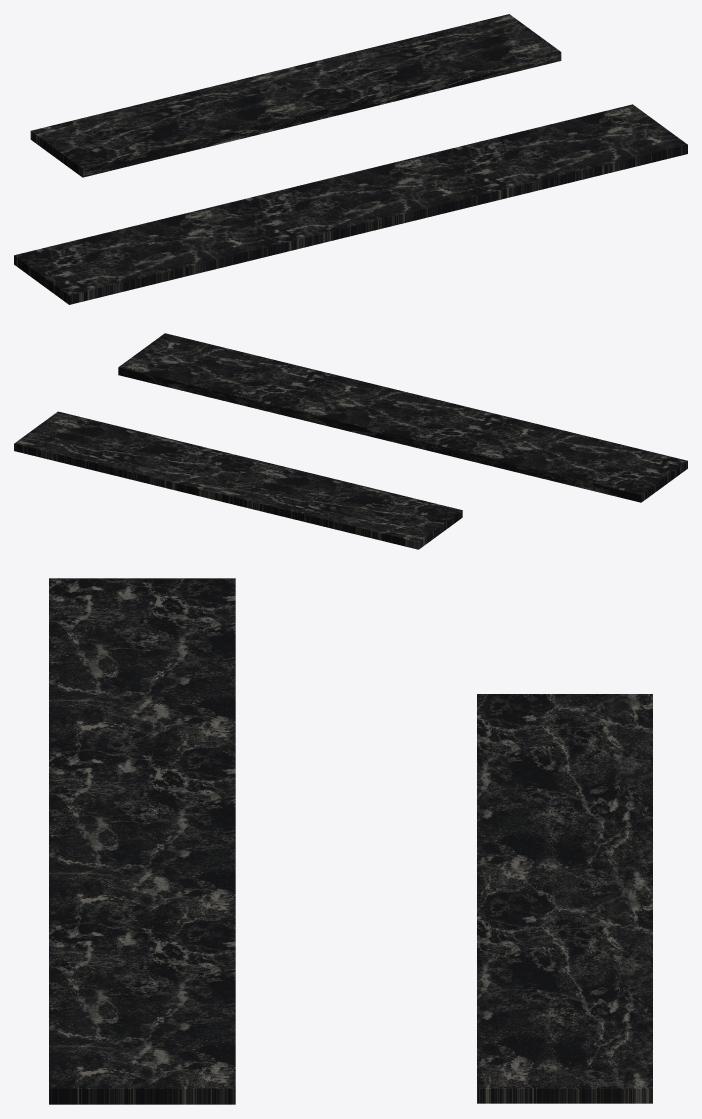
The model's file is table.fbx.
3 views of the same model, one above another, from view 1: azimuth 30°, elevation 25°; view 2: azimuth 150°, elevation 25°; view 3: azimuth 270°, elevation 25° (orthographic). The views are drawn at different scales.
Visible parts, largest first — view 1: Table_Front, Table_Back; view 2: Table_Front, Table_Back; view 3: Table_Front, Table_Back.
Boxes of the visible parts, x1,y1,x2,y2 form: Table_Front: [14, 104, 687, 304]; Table_Back: [30, 14, 561, 177]; Table_Front: [118, 333, 687, 502]; Table_Back: [14, 411, 462, 549]; Table_Front: [49, 578, 235, 1104]; Table_Back: [477, 694, 652, 1103].
Bounding box in the file's own units: 6 × 0.0857 × 3.
Materials: 1 (1 with a texture image).
